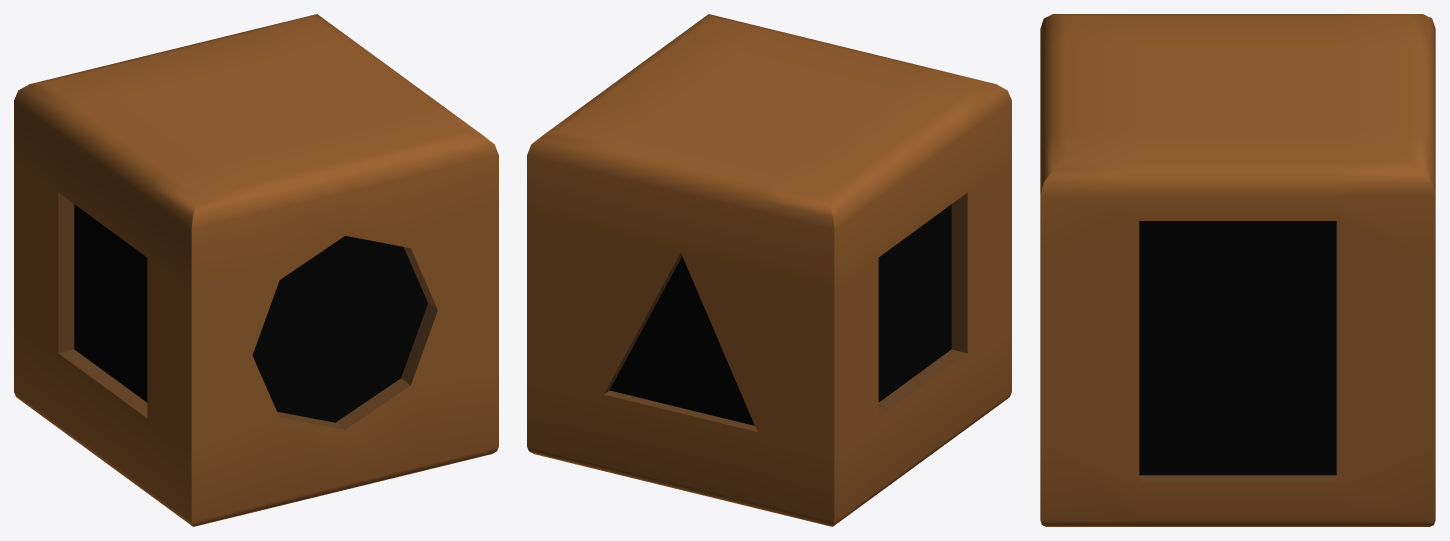
The model's file is (p) Brown Shape block.fbx.
3 renders of one model, left to right at view 1: azimuth 30°, elevation 25°; view 2: azimuth 150°, elevation 25°; view 3: azimuth 270°, elevation 25°, orthographic. The views are drawn at different scales.
Parts seen in each view (by area): view 1: Shape block Brown; view 2: Shape block Brown; view 3: Shape block Brown.
Boxes of the visible parts, box(x1,y1,x2,y2) form: Shape block Brown: box(14, 14, 498, 526); Shape block Brown: box(527, 14, 1011, 526); Shape block Brown: box(1040, 14, 1435, 526).
Size of the model in its own units: 296 by 296 by 296.
